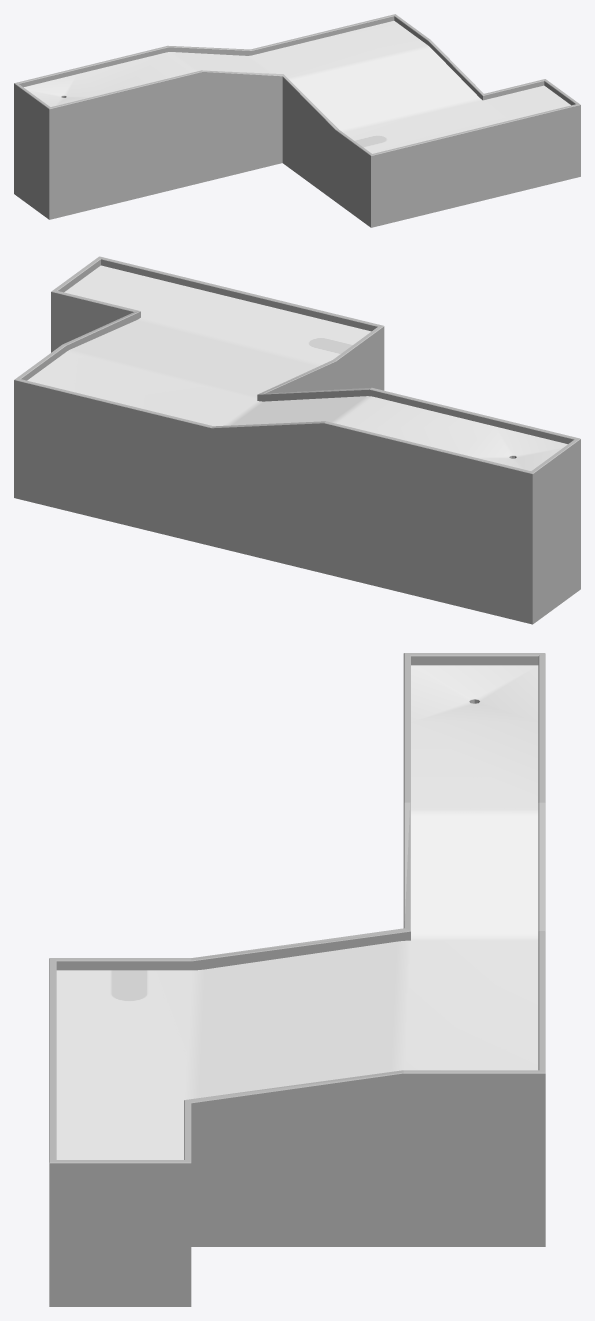
Rendered from Hole2.fbx.
3 renders of one model, top to bottom at view 1: azimuth 30°, elevation 25°; view 2: azimuth 150°, elevation 25°; view 3: azimuth 270°, elevation 25°, orthographic. The views are drawn at different scales.
Parts seen in each view (by area): view 1: Hole3, Hole3Floor; view 2: Hole3, Hole3Floor; view 3: Hole3Floor, Hole3.
Boxes of the visible parts, x1,y1,x2,y2 form: Hole3: (14,14,580,227); Hole3Floor: (24,21,570,153); Hole3: (14,256,580,624); Hole3Floor: (27,265,567,470); Hole3Floor: (56,665,538,1159); Hole3: (49,653,545,1306).
Bounding box in the file's own units: 14.43 × 3.45 × 7.
